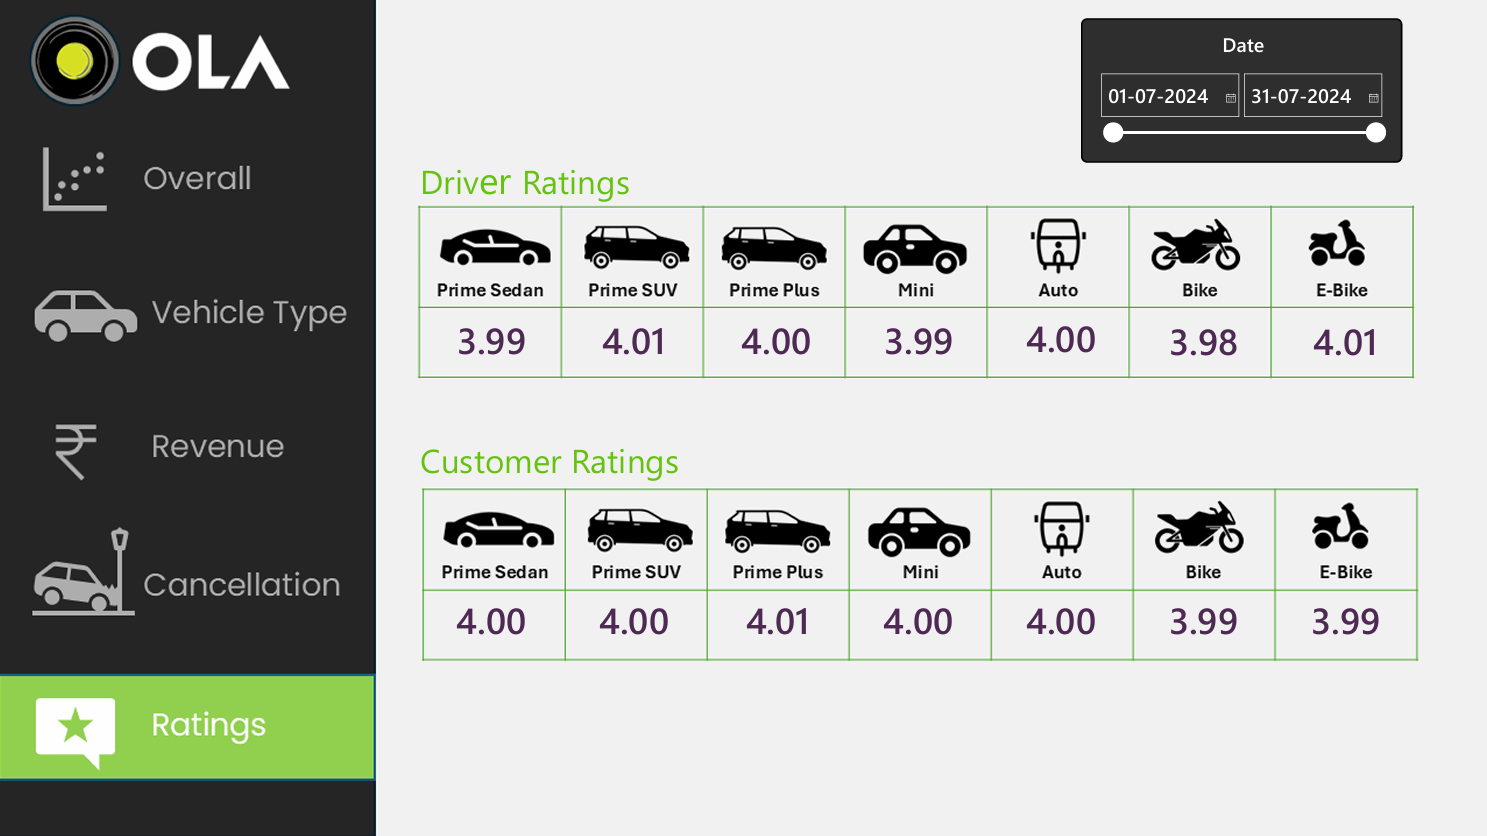

What the dashboard file says about the page in this screenshot:
{"tool":"powerbi","page":{"name":"Ratings","canvas":[1920,1080],"ordinal":4},"visuals":[{"type":"actionButton","box":[0,163.6,485.9,130.2],"z":0},{"type":"actionButton","box":[0,337.3,485.9,130.2],"z":1000},{"type":"actionButton","box":[0,510.9,485.9,130.2],"z":2000},{"type":"actionButton","box":[0,681.3,485.9,130.2],"z":3000},{"type":"cardVisual","fields":{"Data":["Avg(Bookings.Driver_Ratings)"]},"box":[542.6,390.7,183.3,92.6],"z":4000},{"type":"cardVisual","fields":{"Data":["Avg(Bookings.Driver_Ratings)"]},"box":[726.2,390.5,183.3,92.6],"z":5000},{"type":"cardVisual","fields":{"Data":["Avg(Bookings.Driver_Ratings)"]},"box":[909.5,390.5,183.3,92.6],"z":6000},{"type":"cardVisual","fields":{"Data":["Avg(Bookings.Driver_Ratings)"]},"box":[1092.9,390.5,183.3,92.6],"z":7000},{"type":"cardVisual","fields":{"Data":["Avg(Bookings.Driver_Ratings)"]},"box":[1276.2,388.1,183.3,92.6],"z":8000},{"type":"cardVisual","fields":{"Data":["Avg(Bookings.Driver_Ratings)"]},"box":[1459.5,392.9,183.3,92.6],"z":9000},{"type":"cardVisual","fields":{"Data":["Avg(Bookings.Driver_Ratings)"]},"box":[1642.9,392.9,183.3,92.6],"z":10000},{"type":"textbox","box":[543.1,198.3,287.9,79.3],"z":11000},{"type":"textbox","box":[543.1,563.8,365.5,77.6],"z":12000},{"type":"cardVisual","fields":{"Data":["Avg(Bookings.Customer_Rating)"]},"box":[542.9,745.2,183.3,104.8],"z":13000},{"type":"cardVisual","fields":{"Data":["Avg(Bookings.Customer_Rating)"]},"box":[726.2,745.2,183.3,104.8],"z":14000},{"type":"cardVisual","fields":{"Data":["Avg(Bookings.Customer_Rating)"]},"box":[911.9,745.2,183.3,104.8],"z":15000},{"type":"cardVisual","fields":{"Data":["Avg(Bookings.Customer_Rating)"]},"box":[1092.9,745.2,183.3,104.8],"z":16000},{"type":"cardVisual","fields":{"Data":["Avg(Bookings.Customer_Rating)"]},"box":[1276.2,745.2,183.3,104.8],"z":17000},{"type":"cardVisual","fields":{"Data":["Avg(Bookings.Customer_Rating)"]},"box":[1459.5,745.2,183.3,104.8],"z":18000},{"type":"cardVisual","fields":{"Data":["Avg(Bookings.Customer_Rating)"]},"box":[1642.9,745.2,183.3,104.8],"z":19000},{"type":"slicer","title":"Date","fields":{"Values":["Bookings.Date"]},"box":[1394.4,24.1,414,186],"z":20000}]}

Visuals, with their boxes on the page's 1920x1080 design canvas (x1, y1, x2, y2). These are canvas units, not pixel positions in the 1487x836 screenshot, which may show the page scaled, cropped or inside an application window:
actionButton: BBox(0, 164, 486, 294)
actionButton: BBox(0, 337, 486, 468)
actionButton: BBox(0, 511, 486, 641)
actionButton: BBox(0, 681, 486, 812)
cardVisual - Avg(Bookings.Driver_Ratings): BBox(543, 391, 726, 483)
cardVisual - Avg(Bookings.Driver_Ratings): BBox(726, 390, 910, 483)
cardVisual - Avg(Bookings.Driver_Ratings): BBox(910, 390, 1093, 483)
cardVisual - Avg(Bookings.Driver_Ratings): BBox(1093, 390, 1276, 483)
cardVisual - Avg(Bookings.Driver_Ratings): BBox(1276, 388, 1460, 481)
cardVisual - Avg(Bookings.Driver_Ratings): BBox(1460, 393, 1643, 486)
cardVisual - Avg(Bookings.Driver_Ratings): BBox(1643, 393, 1826, 486)
textbox: BBox(543, 198, 831, 278)
textbox: BBox(543, 564, 909, 641)
cardVisual - Avg(Bookings.Customer_Rating): BBox(543, 745, 726, 850)
cardVisual - Avg(Bookings.Customer_Rating): BBox(726, 745, 910, 850)
cardVisual - Avg(Bookings.Customer_Rating): BBox(912, 745, 1095, 850)
cardVisual - Avg(Bookings.Customer_Rating): BBox(1093, 745, 1276, 850)
cardVisual - Avg(Bookings.Customer_Rating): BBox(1276, 745, 1460, 850)
cardVisual - Avg(Bookings.Customer_Rating): BBox(1460, 745, 1643, 850)
cardVisual - Avg(Bookings.Customer_Rating): BBox(1643, 745, 1826, 850)
"Date" slicer: BBox(1394, 24, 1808, 210)
